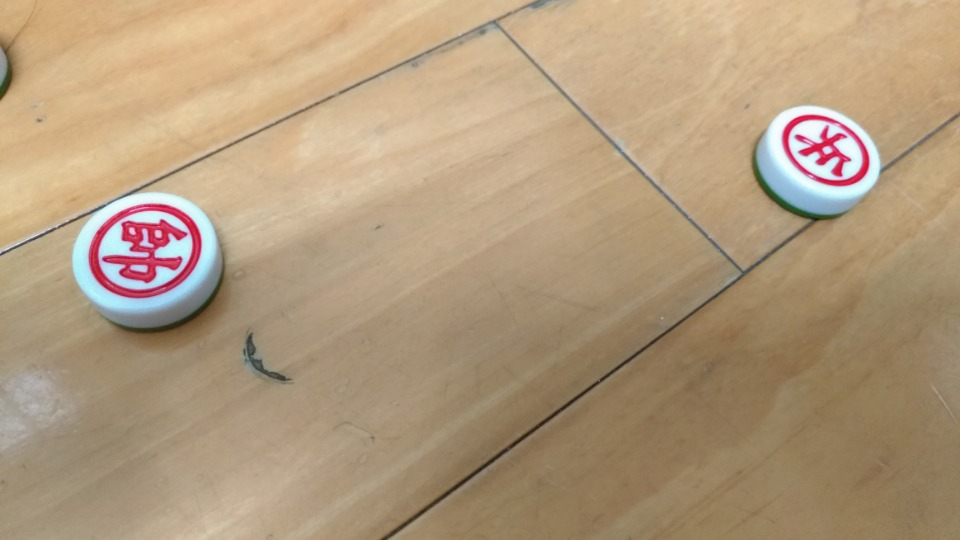r-king: (53, 177, 245, 333)
r-pawn: (734, 93, 898, 224)
